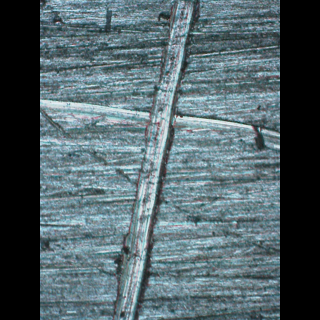d: (109, 0, 205, 317), (40, 95, 280, 140)
